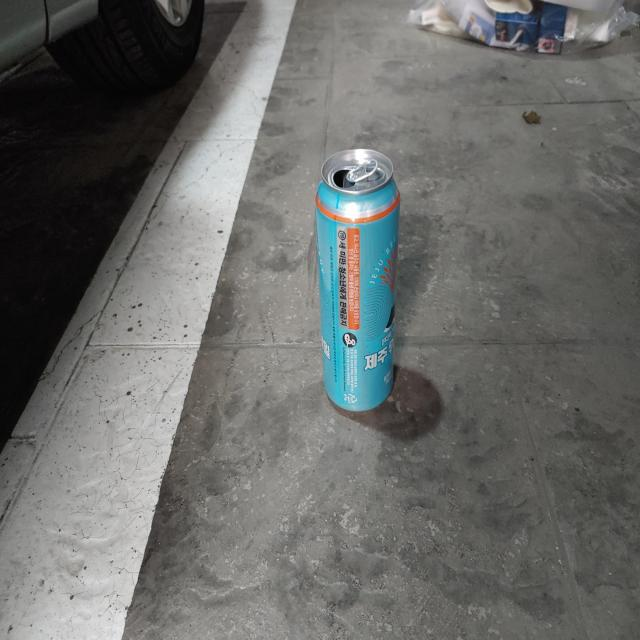can: (315, 149, 400, 412)
